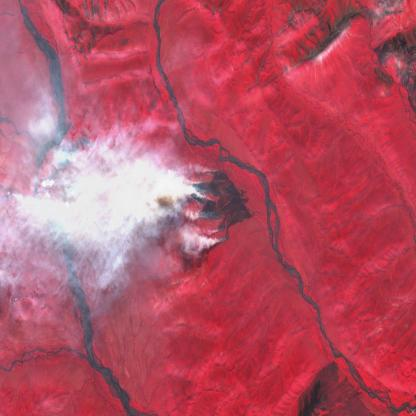fire: (172, 159, 249, 251)
